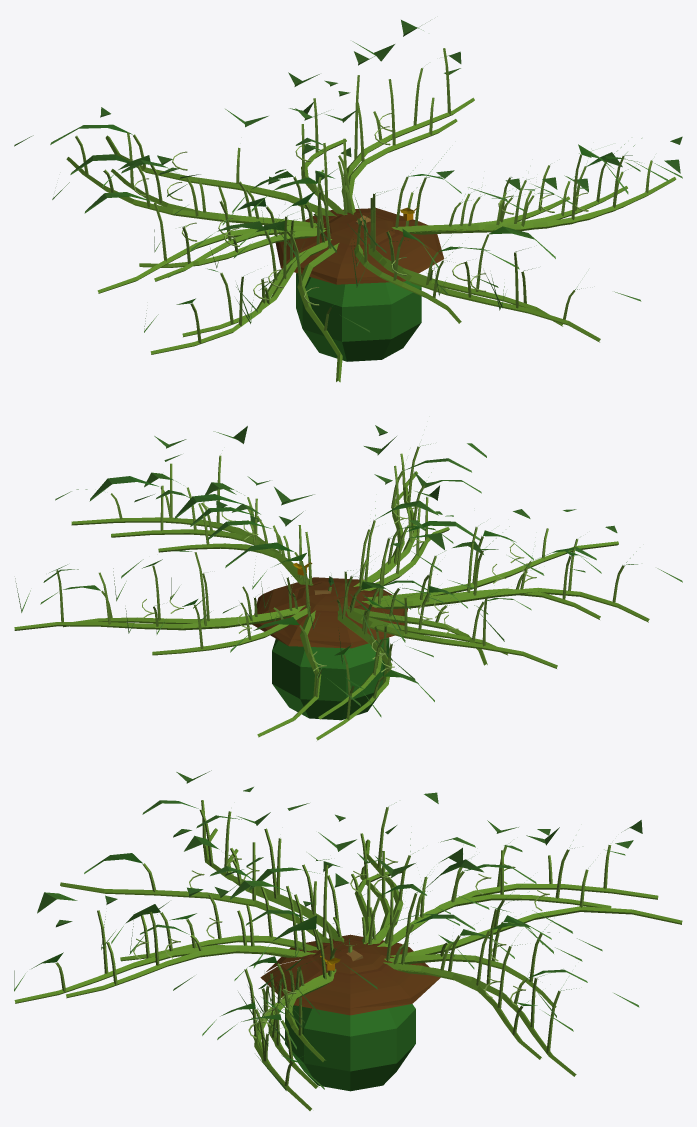
File: watermelon.glb
The picture shows the model from 3 angles, top to bottom: view 1: azimuth 30°, elevation 25°; view 2: azimuth 150°, elevation 25°; view 3: azimuth 270°, elevation 25°; orthographic projection. The views are drawn at different scales.
Visible parts, largest first — view 1: stage4_stem, fruit_fruit, stage3_stem, stage2_soil, stage2_stem, stage4_l1_stem, stage4_leaf, stage3_leaf, stage3_l1_stem, stage2_l1_stem, stage0_soil, stage2_leaf (+2 smaller); view 2: stage4_stem, fruit_fruit, stage3_stem, stage2_stem, stage2_soil, stage4_l1_stem, stage4_leaf, stage3_l1_stem, stage3_leaf, stage2_l1_stem, stage0_soil, stage4_l1_leaf (+2 smaller); view 3: stage4_stem, stage3_stem, fruit_fruit, stage2_soil, stage4_l1_stem, stage2_stem, stage4_leaf, stage3_leaf, stage3_l1_stem, stage0_soil, stage2_l1_stem, stage4_l1_leaf (+1 smaller).
Boxes of the visible parts, left/top/right/bottom form: stage4_stem: left=66, top=48, right=676, bottom=354; fruit_fruit: left=296, top=273, right=421, bottom=361; stage3_stem: left=111, top=79, right=627, bottom=337; stage2_soil: left=275, top=208, right=444, bottom=284; stage2_stem: left=139, top=98, right=569, bottom=323; stage4_l1_stem: left=105, top=134, right=675, bottom=382; stage4_leaf: left=14, top=20, right=682, bottom=332; stage3_leaf: left=100, top=51, right=668, bottom=323; stage3_l1_stem: left=97, top=166, right=613, bottom=293; stage2_l1_stem: left=154, top=177, right=569, bottom=281; stage0_soil: left=323, top=214, right=395, bottom=245; stage2_leaf: left=154, top=72, right=591, bottom=287; stage4_stem: left=14, top=446, right=649, bottom=740; fruit_fruit: left=272, top=637, right=389, bottom=720; stage3_stem: left=63, top=465, right=600, bottom=719; stage2_stem: left=152, top=497, right=487, bottom=665; stage2_soil: left=252, top=577, right=407, bottom=648; stage4_l1_stem: left=71, top=487, right=618, bottom=737; stage4_leaf: left=15, top=425, right=682, bottom=717; stage3_l1_stem: left=111, top=487, right=557, bottom=668; stage3_leaf: left=40, top=436, right=601, bottom=678; stage2_l1_stem: left=158, top=520, right=507, bottom=655; stage0_soil: left=296, top=582, right=364, bottom=611; stage4_l1_leaf: left=89, top=476, right=576, bottom=706; stage4_stem: left=14, top=800, right=658, bottom=1110; stage3_stem: left=66, top=811, right=611, bottom=1088; fruit_fruit: left=285, top=1004, right=415, bottom=1091; stage2_soil: left=260, top=934, right=440, bottom=1015; stage4_l1_stem: left=60, top=842, right=682, bottom=1109; stage2_stem: left=120, top=833, right=556, bottom=1060; stage4_leaf: left=14, top=770, right=642, bottom=1089; stage3_leaf: left=56, top=787, right=625, bottom=1049; stage3_l1_stem: left=263, top=807, right=410, bottom=1086; stage0_soil: left=303, top=941, right=386, bottom=973; stage2_l1_stem: left=280, top=851, right=390, bottom=1061; stage4_l1_leaf: left=84, top=812, right=633, bottom=1090.
Size of the model in its own units: 1.82 by 0.6459 by 1.74.
